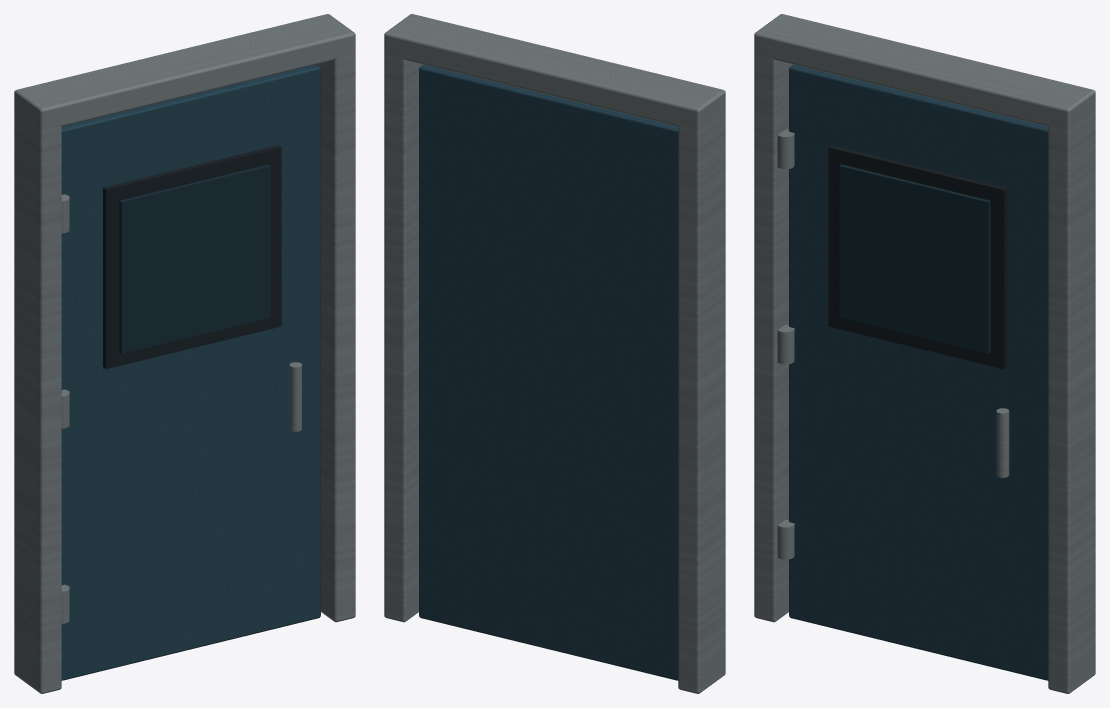
The model's file is door.d03dbe1b5663.glb.
3 views of the same model, side by side, from view 1: azimuth 30°, elevation 25°; view 2: azimuth 150°, elevation 25°; view 3: azimuth 330°, elevation 25° (orthographic).
Parts seen in each view (by area): view 1: door_leaf_0004, jamb_0001, window_0006, jamb_0002, lintel_0003, window_frame_0005, handle_0007; view 2: door_leaf_0004, jamb_0001, jamb_0002, lintel_0003; view 3: door_leaf_0004, jamb_0002, window_0006, jamb_0001, lintel_0003, window_frame_0005, handle_0007, hinge_0010, hinge_0008, hinge_0009.
Part boxes in pixels (left/top/right/bottom): door_leaf_0004: left=61, top=64, right=320, bottom=680; jamb_0001: left=14, top=105, right=61, bottom=693; window_0006: left=119, top=164, right=270, bottom=353; jamb_0002: left=316, top=47, right=355, bottom=622; lintel_0003: left=14, top=14, right=355, bottom=129; window_frame_0005: left=103, top=145, right=281, bottom=369; handle_0007: left=289, top=362, right=301, bottom=431; door_leaf_0004: left=419, top=64, right=678, bottom=680; jamb_0001: left=678, top=111, right=725, bottom=693; jamb_0002: left=384, top=47, right=423, bottom=622; lintel_0003: left=384, top=14, right=725, bottom=129; door_leaf_0004: left=789, top=64, right=1048, bottom=680; jamb_0002: left=1048, top=111, right=1095, bottom=693; window_0006: left=839, top=164, right=990, bottom=353; jamb_0001: left=754, top=47, right=793, bottom=622; lintel_0003: left=754, top=14, right=1095, bottom=129; window_frame_0005: left=828, top=145, right=1006, bottom=369; handle_0007: left=996, top=408, right=1009, bottom=477; hinge_0010: left=777, top=129, right=794, bottom=169; hinge_0008: left=777, top=520, right=794, bottom=559; hinge_0009: left=777, top=325, right=794, bottom=364.
Bounding box in the file's own units: 1.44 × 2.55 × 0.265.
4 materials, 3 textured.
